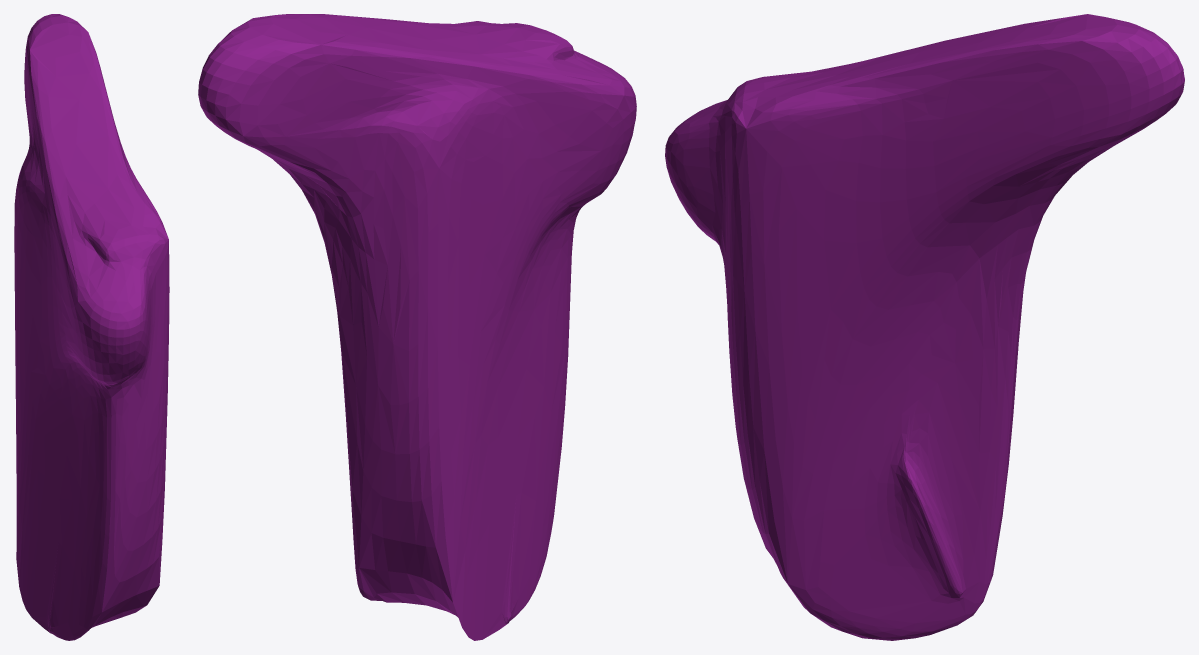
The picture shows the model from 3 angles, left to right: view 1: azimuth 30°, elevation 25°; view 2: azimuth 150°, elevation 25°; view 3: azimuth 270°, elevation 25°; orthographic projection. The views are drawn at different scales.
Parts seen in each view (by area): view 1: 104_Cube.437; view 2: 104_Cube.437; view 3: 104_Cube.437.
Boxes of the visible parts, left/top/right/bottom form: 104_Cube.437: left=14, top=14, right=169, bottom=640; 104_Cube.437: left=198, top=14, right=636, bottom=640; 104_Cube.437: left=665, top=14, right=1184, bottom=640.
Size of the model in its own units: 4.71 by 14.02 by 10.24.
